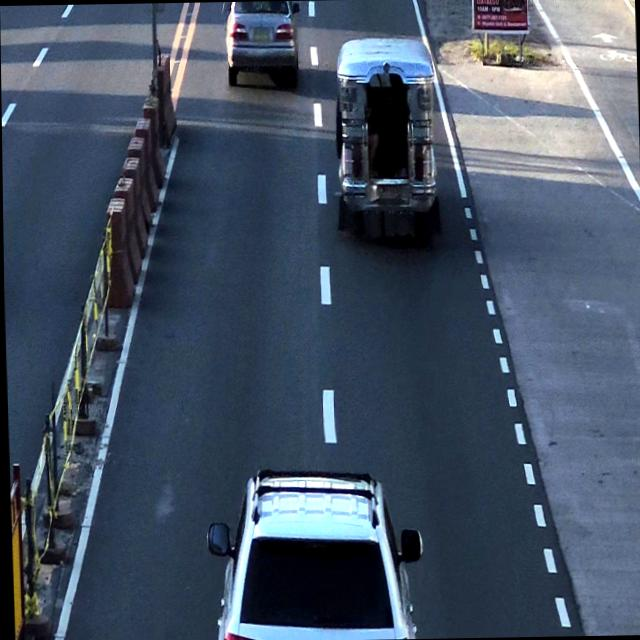Car: (207, 468, 419, 640), (220, 0, 307, 90)
Jeep: (329, 34, 442, 244)
License-Plate: (250, 26, 271, 44)
